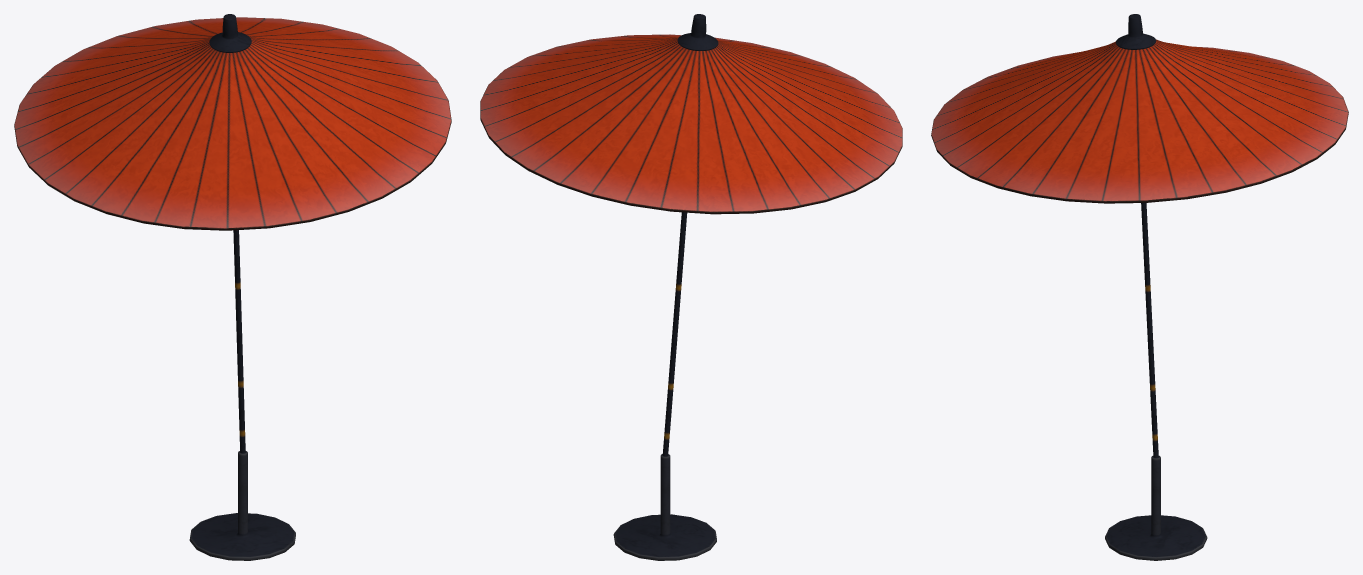
Rendered from Umbrella.fbx.
3 renders of one model, left to right at view 1: azimuth 30°, elevation 25°; view 2: azimuth 150°, elevation 25°; view 3: azimuth 270°, elevation 25°, orthographic. The views are drawn at different scales.
Visible parts, largest first — view 1: Umbrella; view 2: Umbrella; view 3: Umbrella.
Part boxes in pixels (bbox=[...]): Umbrella: bbox=[14, 14, 451, 560]; Umbrella: bbox=[480, 14, 902, 560]; Umbrella: bbox=[931, 14, 1348, 560].
Size of the model in its own units: 1.81 by 2.46 by 1.81.
